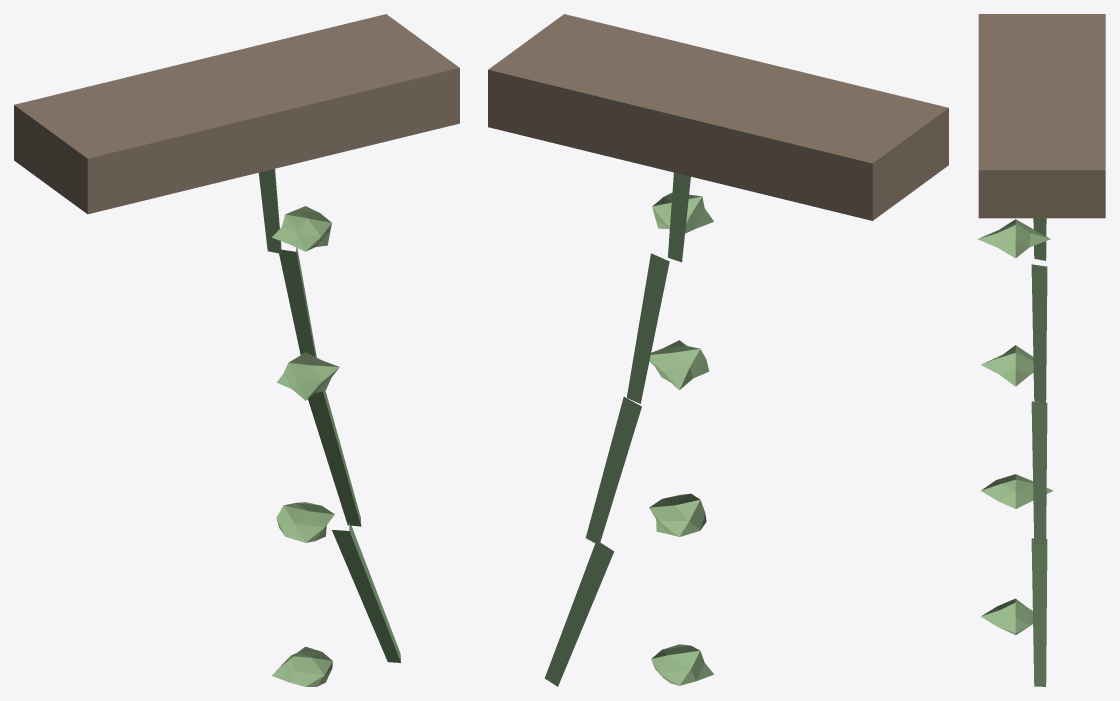
File: vine_v31.glb
3 renders of one model, left to right at view 1: azimuth 30°, elevation 25°; view 2: azimuth 150°, elevation 25°; view 3: azimuth 270°, elevation 25°, orthographic. The views are drawn at different scales.
Visible parts, largest first — view 1: lod0; view 2: lod0; view 3: lod0.
Boxes of the visible parts, box(x1,y1,x2,y2) form: lod0: box(14, 14, 459, 686); lod0: box(488, 14, 948, 686); lod0: box(977, 14, 1105, 686).
Size of what is drawn, in the model's own units: 0.7 by 1.1 by 0.2425.
